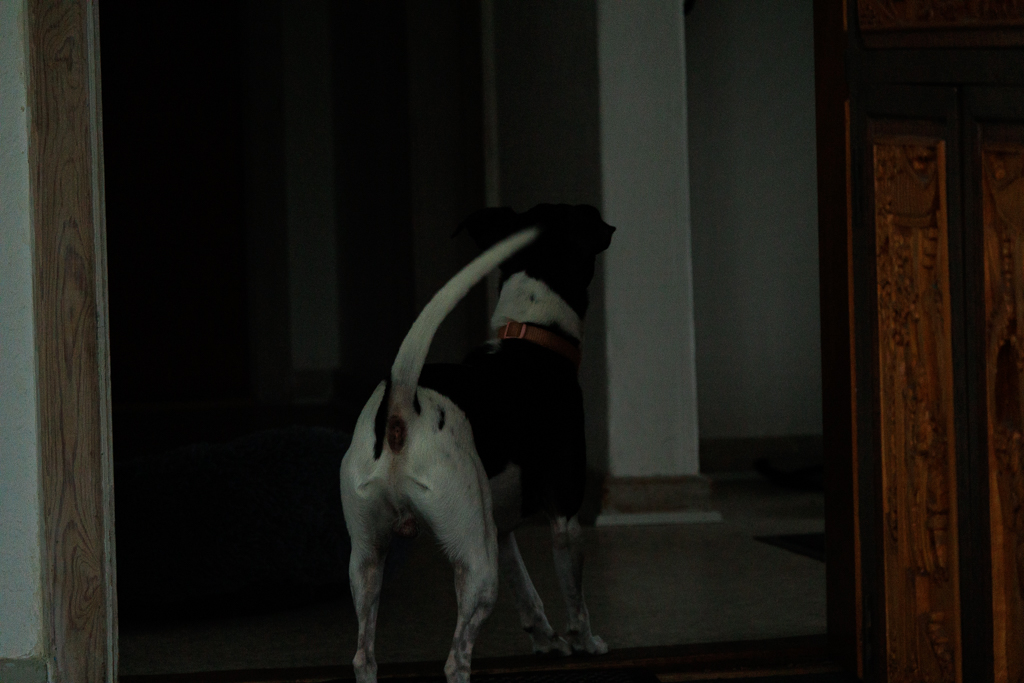Dog: (328, 180, 627, 683)
